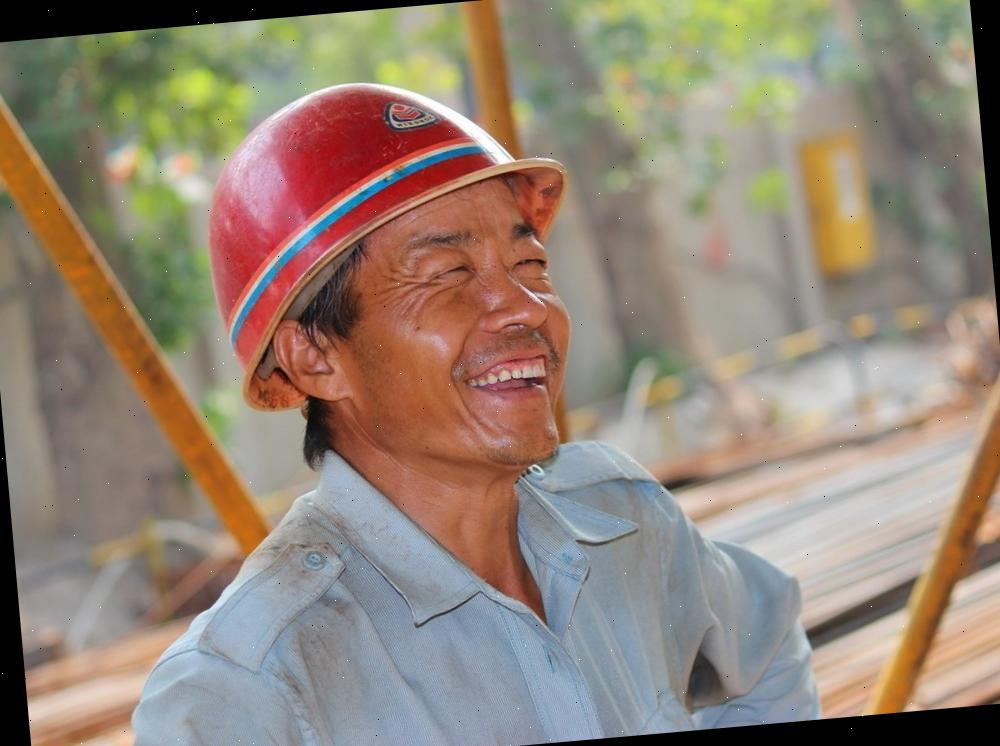helmet: (156, 60, 614, 426)
